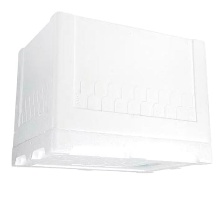foam_box: (5, 6, 219, 179)
